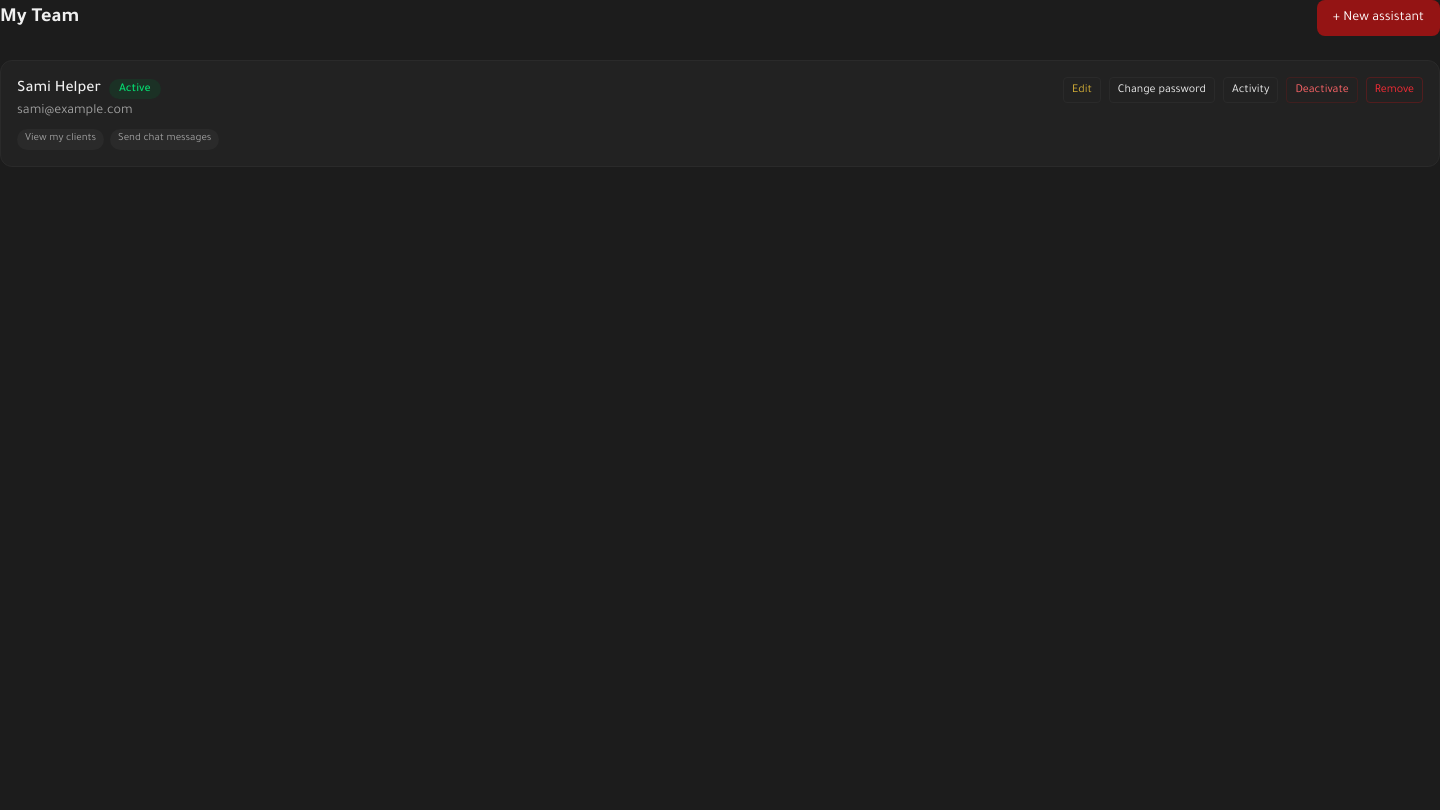
Scenario: TeamPage › loads an assistant's activity
Click the button "Activity" at (1251, 90), box [1223,77,1278,103]
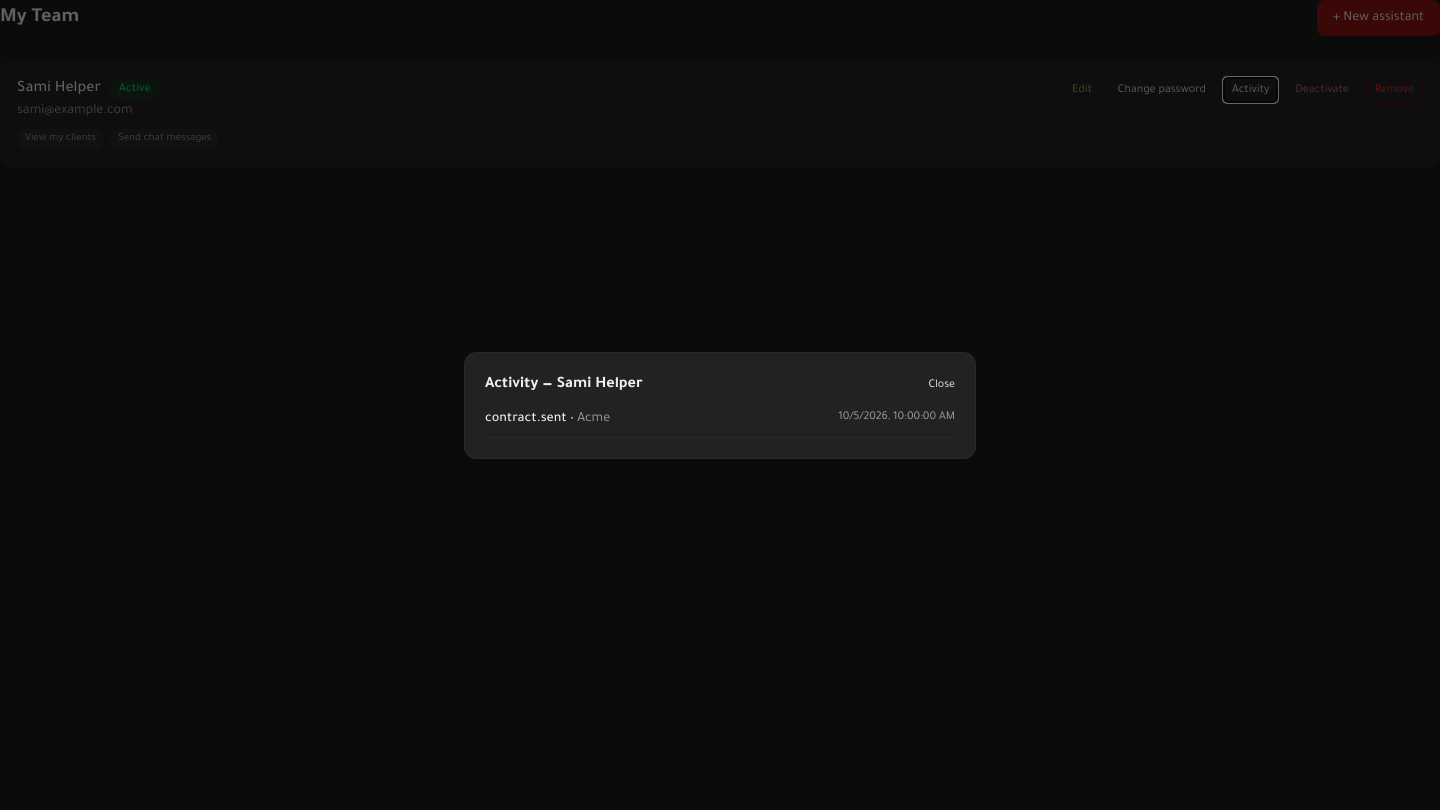
Check: the text "contract.sent" is shown, box [485,412,566,426]
Check: the text "• Acme" is shown, box [566,412,610,426]
